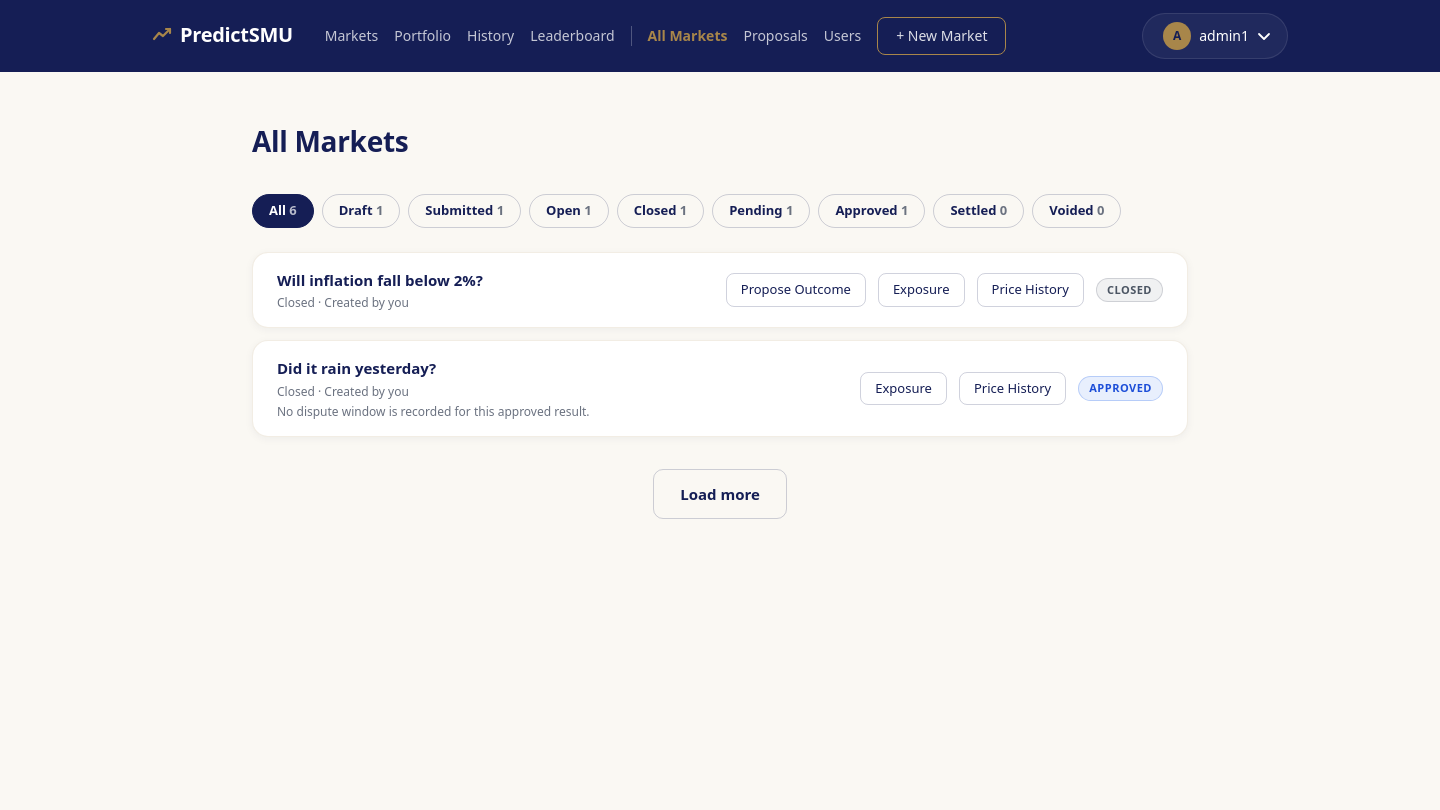
Scenario: AdminMarketsPage › clears a failed Load more's alert when the status filter changes
Expected: the text "Will inflation fall below 2%?" is shown, [277, 268, 483, 291]
Click the button "Load more": coordinates (720, 494) [653, 468, 787, 519]
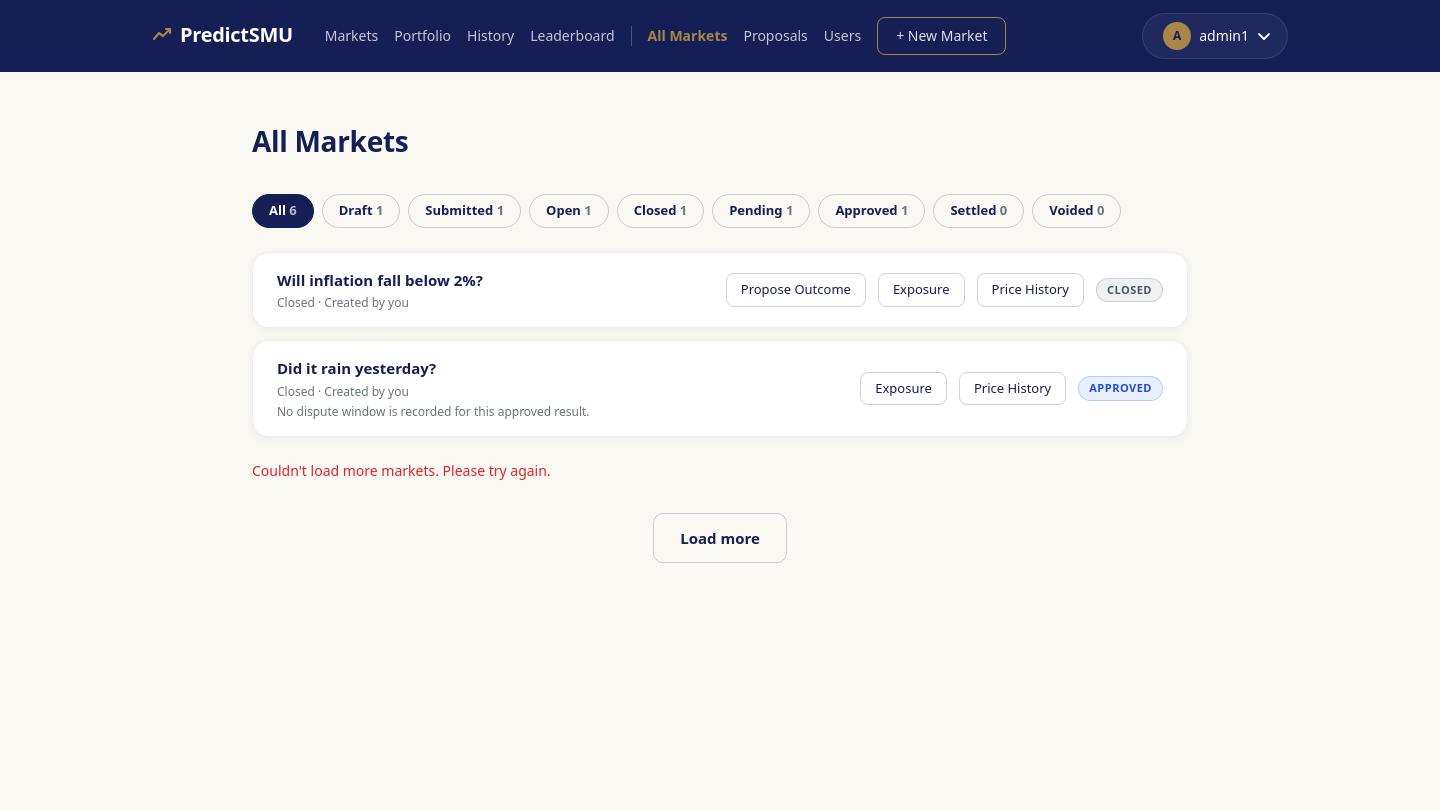
Expected: the message shows "Couldn't load more markets", [252, 460, 551, 480]
Click the tab "Open 1": coordinates (569, 211) [529, 194, 609, 228]
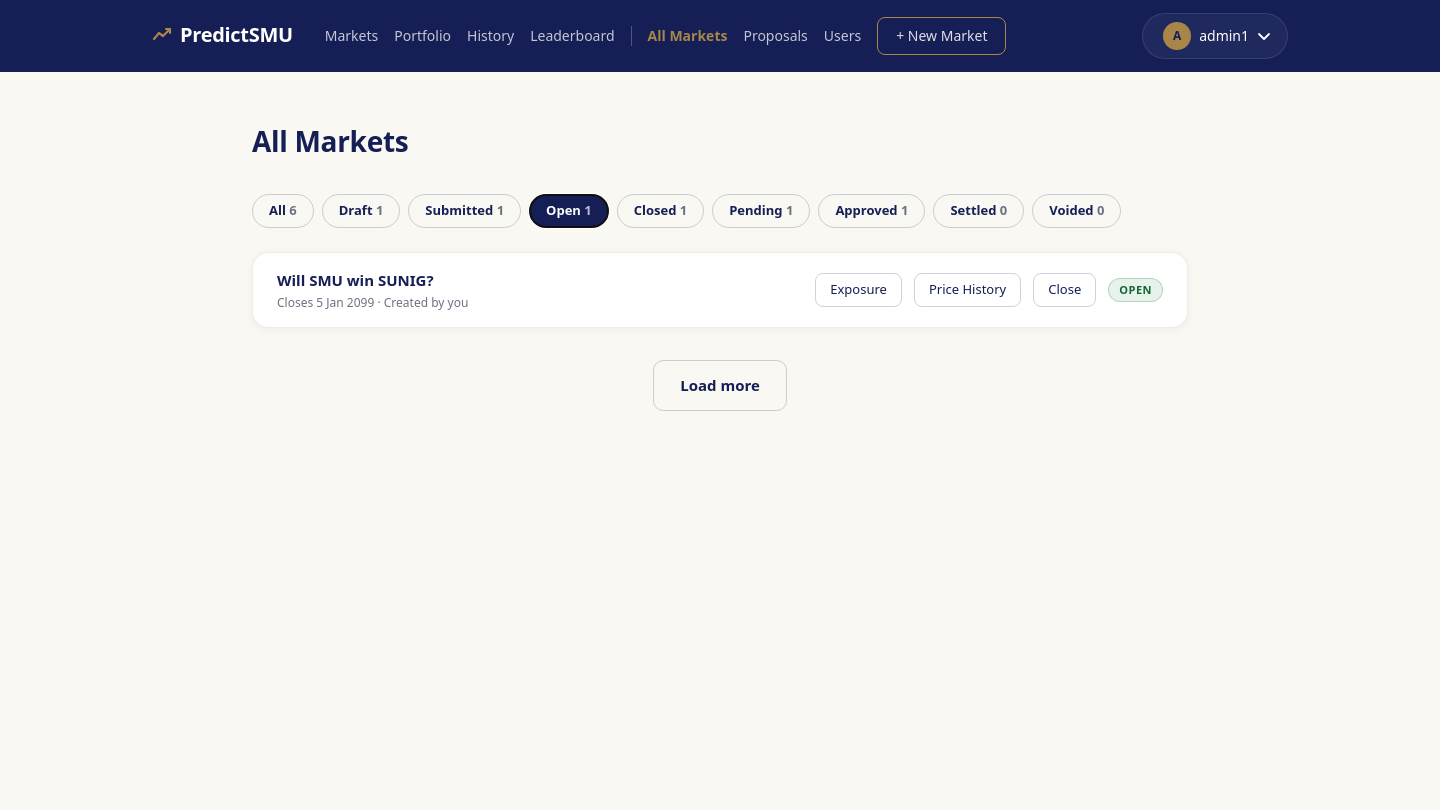
Expected: the button "Load more" is shown, [653, 360, 787, 410]
Expected: the text "Will SMU win SUNIG?" is shown, [277, 270, 434, 290]
Expected: the message "Couldn't load more markets. Please try again." is gone
